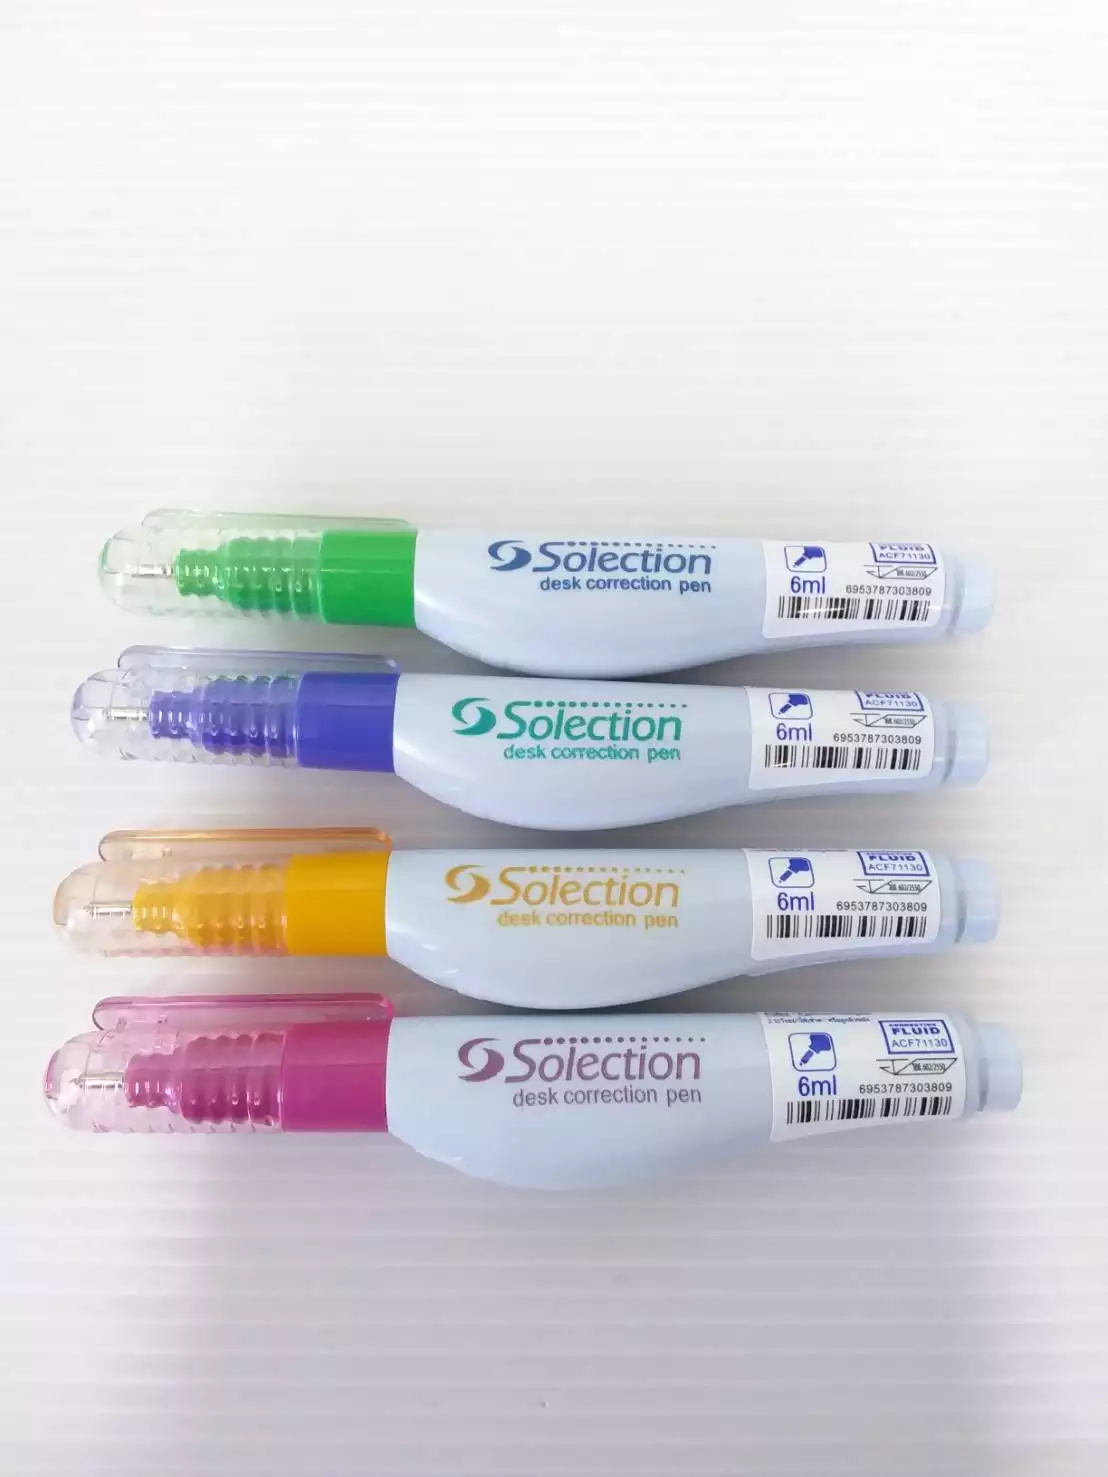Correction_fluid: (31, 988, 1034, 1190), (41, 814, 1008, 1020), (54, 638, 995, 838), (92, 495, 1000, 683)
